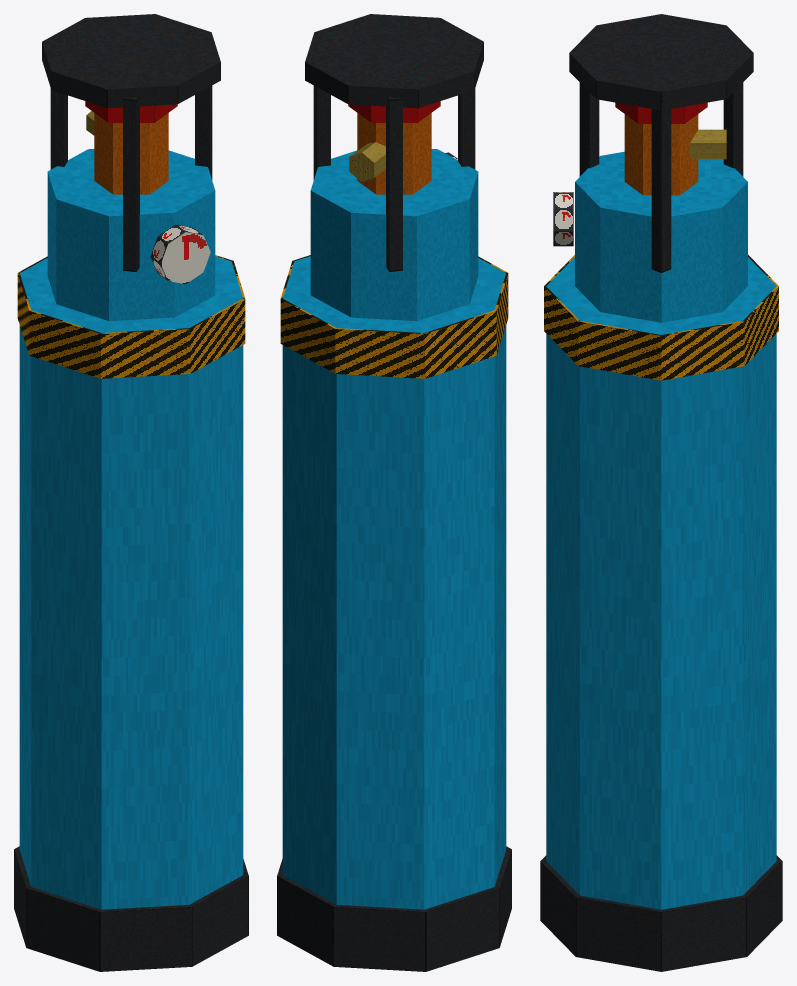
The model's file is oxygen_tank.glb.
3 views of the same model, side by side, from view 1: azimuth 30°, elevation 25°; view 2: azimuth 150°, elevation 25°; view 3: azimuth 270°, elevation 25° (orthographic).
Visible parts, largest first — view 1: oxygen_tank; view 2: oxygen_tank; view 3: oxygen_tank.
Part boxes in pixels (bbox=[...]): oxygen_tank: bbox=[14, 14, 248, 971]; oxygen_tank: bbox=[277, 14, 511, 971]; oxygen_tank: bbox=[540, 14, 782, 971].
Bounding box in the file's own units: 0.294 × 1.16 × 0.294.
Materials: 1 (1 with a texture image).
